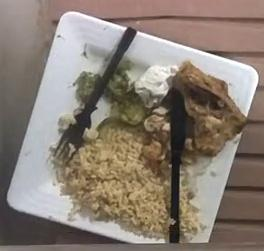chicken: (172, 61, 245, 159)
rice: (53, 117, 169, 236), (180, 165, 205, 242)
vegetables: (107, 67, 146, 126)
